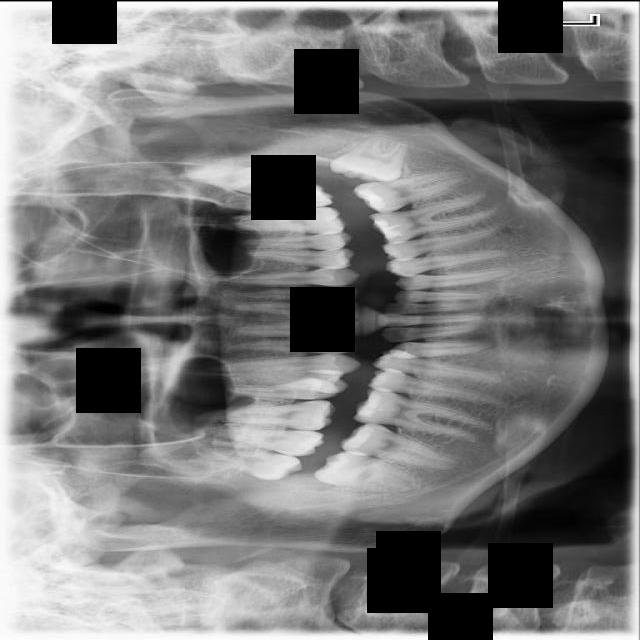3M ESPE Implant: (184, 442, 305, 483)
52: (348, 375, 409, 439), (337, 408, 396, 467), (366, 197, 421, 255), (351, 168, 406, 226), (274, 428, 326, 456), (285, 181, 335, 207)
73: (568, 22, 582, 30)
BioHorizons Implant: (200, 179, 336, 217)
BioLife Implant: (177, 165, 284, 194)
Biomet 3i Implant: (327, 129, 410, 186)
Blue Sky Bio Implant: (351, 167, 473, 217)
Caries: (188, 422, 326, 458)
Implant: (339, 416, 466, 472)
Keystone Dental Implant: (313, 444, 425, 500)
